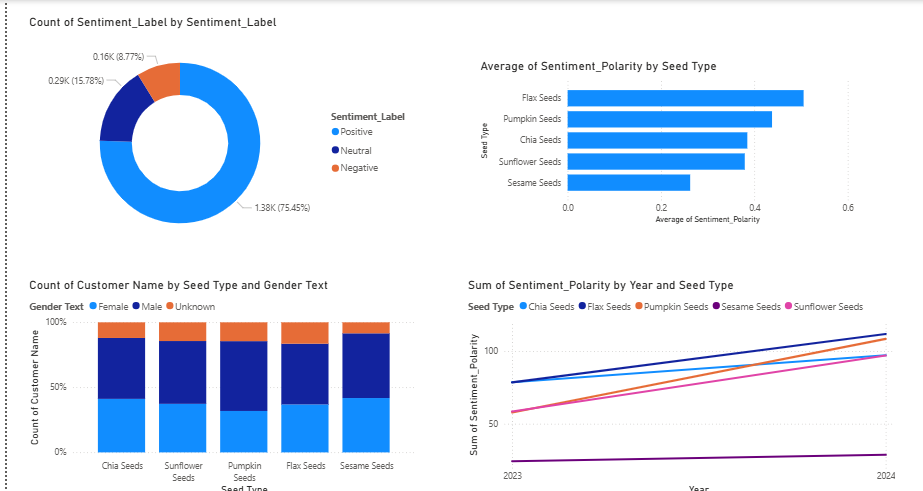

The dashboard page shown, as its layout file describes it:
{"tool":"powerbi","page":{"name":"Page 1","canvas":[1280,720],"ordinal":0},"visuals":[{"type":"donutChart","fields":{"Category":["seeds_with_sentiment_BA.Sentiment_Label"],"Y":["CountNonNull(seeds_with_sentiment_BA.Sentiment_Label)"]},"box":[26.1,20.6,550.3,338.9],"z":0},{"type":"clusteredBarChart","fields":{"Category":["seeds_with_sentiment_BA.Seed Type"],"Y":["Avg(seeds_with_sentiment_BA.Sentiment_Polarity)"]},"box":[655.9,82.3,531,236],"z":1000},{"type":"lineChart","fields":{"Category":["seeds_with_sentiment_BA.Date Parsed.Variation.Date Hierarchy.Year","seeds_with_sentiment_BA.Date Parsed.Variation.Date Hierarchy.Quarter","seeds_with_sentiment_BA.Date Parsed.Variation.Date Hierarchy.Month","seeds_with_sentiment_BA.Date Parsed.Variation.Date Hierarchy.Day"],"Y":["Sum(seeds_with_sentiment_BA.Sentiment_Polarity)"],"Series":["seeds_with_sentiment_BA.Seed Type"]},"box":[639.5,387,606.5,308.7],"z":2000},{"type":"hundredPercentStackedColumnChart","fields":{"Category":["seeds_with_sentiment_BA.Seed Type"],"Y":["CountNonNull(seeds_with_sentiment_BA.Customer Name)"],"Series":["seeds_with_sentiment_BA.Gender Text"]},"box":[26,387,550,309],"z":3000}]}

Visuals, with their boxes on the page's 1280x720 design canvas (x1, y1, x2, y2). These are canvas units, not pixel positions in the 923x491 screenshot, which may show the page scaled, cropped or inside an application window:
donutChart - seeds_with_sentiment_BA.Sentiment_Label x CountNonNull(seeds_with_sentiment_BA.Sentiment_Label): select_region(26, 21, 576, 360)
clusteredBarChart - seeds_with_sentiment_BA.Seed Type x Avg(seeds_with_sentiment_BA.Sentiment_Polarity): select_region(656, 82, 1187, 318)
lineChart - seeds_with_sentiment_BA.Date Parsed.Variation.Date Hierarchy.Year x seeds_with_sentiment_BA.Date Parsed.Variation.Date Hierarchy.Quarter: select_region(640, 387, 1246, 696)
hundredPercentStackedColumnChart - seeds_with_sentiment_BA.Seed Type x CountNonNull(seeds_with_sentiment_BA.Customer Name): select_region(26, 387, 576, 696)
